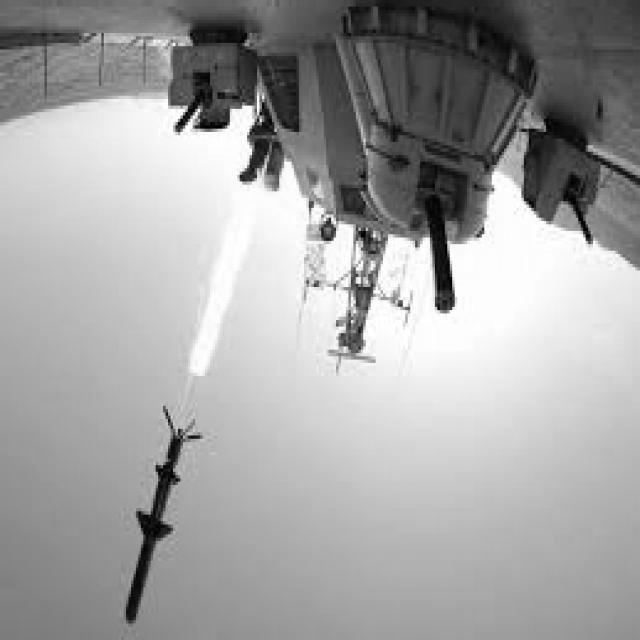Missile: (122, 414, 194, 628)
